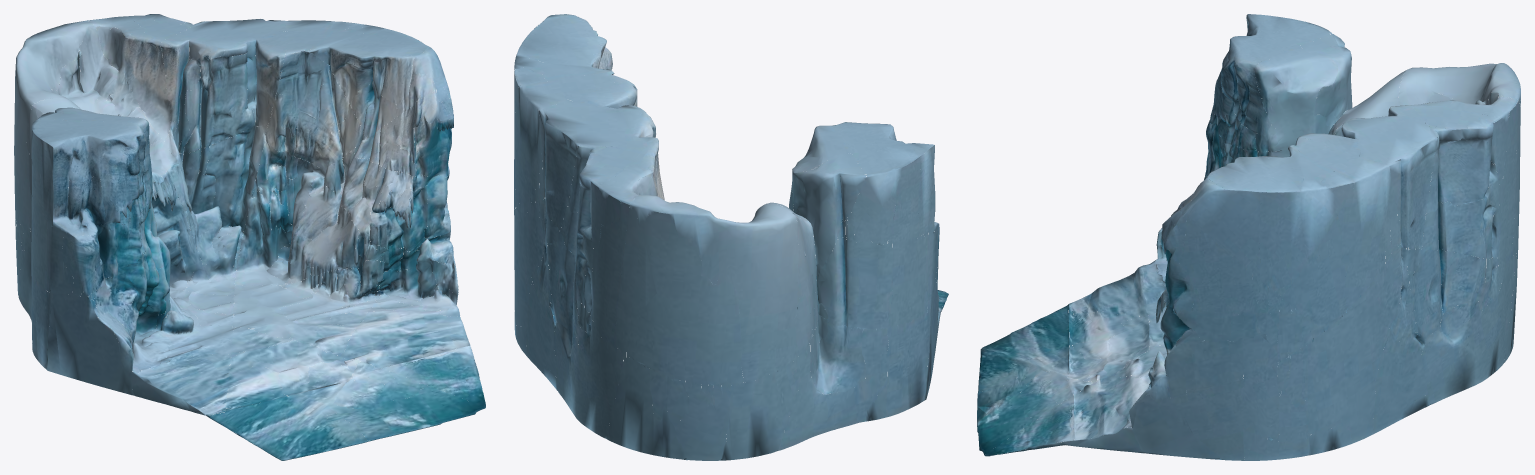
The model's file is ice_canyon.glb.
3 renders of one model, left to right at view 1: azimuth 30°, elevation 25°; view 2: azimuth 150°, elevation 25°; view 3: azimuth 270°, elevation 25°, orthographic. The views are drawn at different scales.
Visible parts, largest first — view 1: tripo_node_78ba7b5e-09a9-40bb-9455-7d8632f0d999; view 2: tripo_node_78ba7b5e-09a9-40bb-9455-7d8632f0d999; view 3: tripo_node_78ba7b5e-09a9-40bb-9455-7d8632f0d999.
Part boxes in pixels (<box>): tripo_node_78ba7b5e-09a9-40bb-9455-7d8632f0d999: <box>14,14,485,460</box>; tripo_node_78ba7b5e-09a9-40bb-9455-7d8632f0d999: <box>514,14,948,460</box>; tripo_node_78ba7b5e-09a9-40bb-9455-7d8632f0d999: <box>977,14,1520,460</box>.
Bounding box in the file's own units: 0.8379 × 0.5944 × 0.9796.
1 material, 1 textured.
